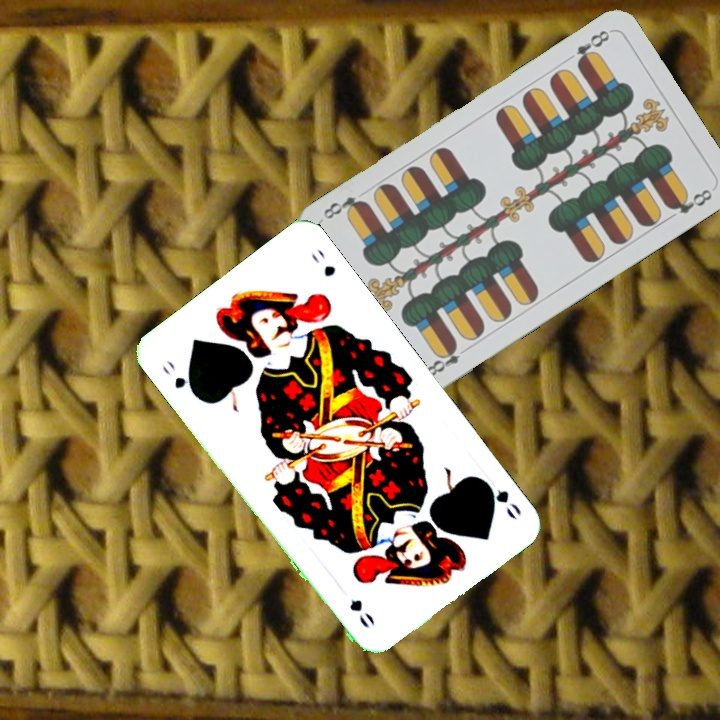E8: (420, 339, 473, 380), (572, 26, 613, 70)
GO: (477, 475, 524, 523), (158, 355, 200, 400)
